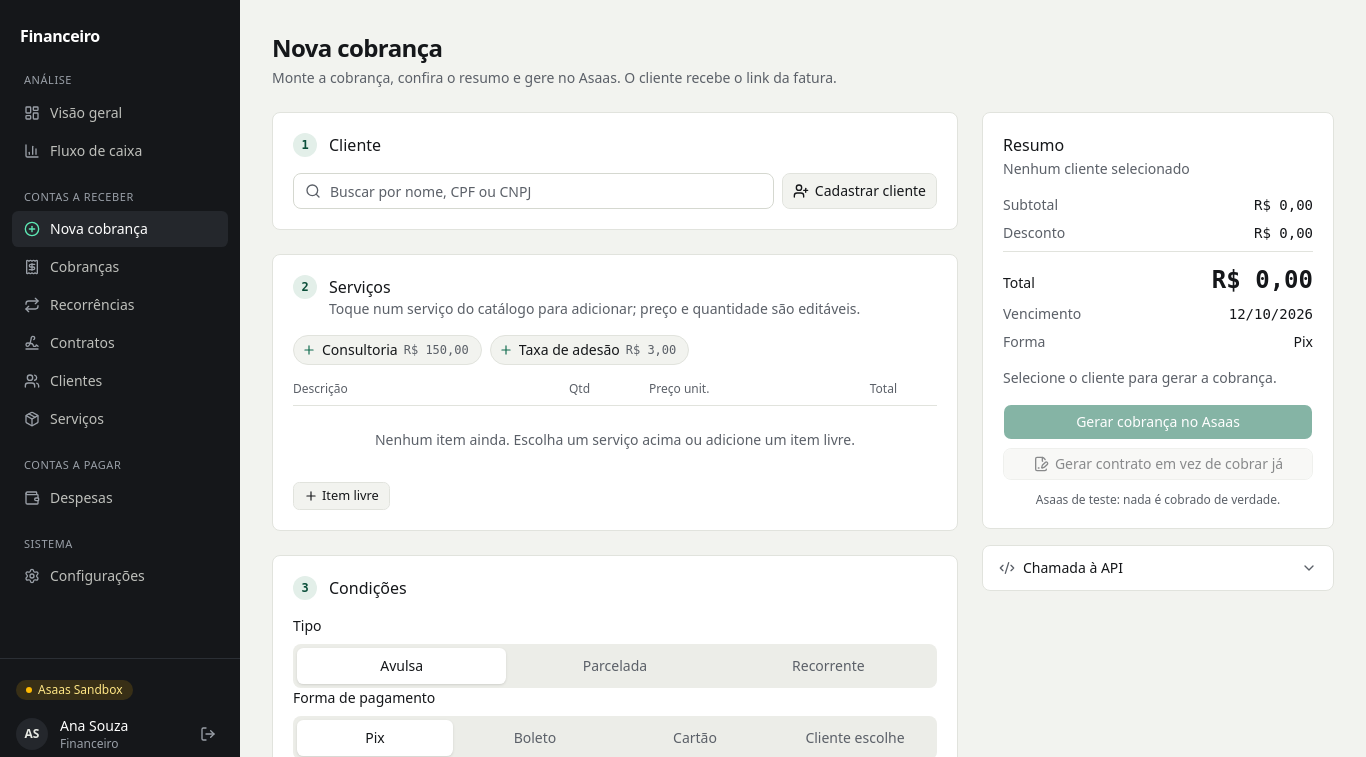
it: [COB-01][COB-02][COB-12] Nova cobrança › [COB-01.2] serviço do catálogo entra com o preço padrão, editável; repetir soma na quantidade
Click the button "Consultoria R$ 150,00". click: (387, 350)
box: [293,335,482,365]
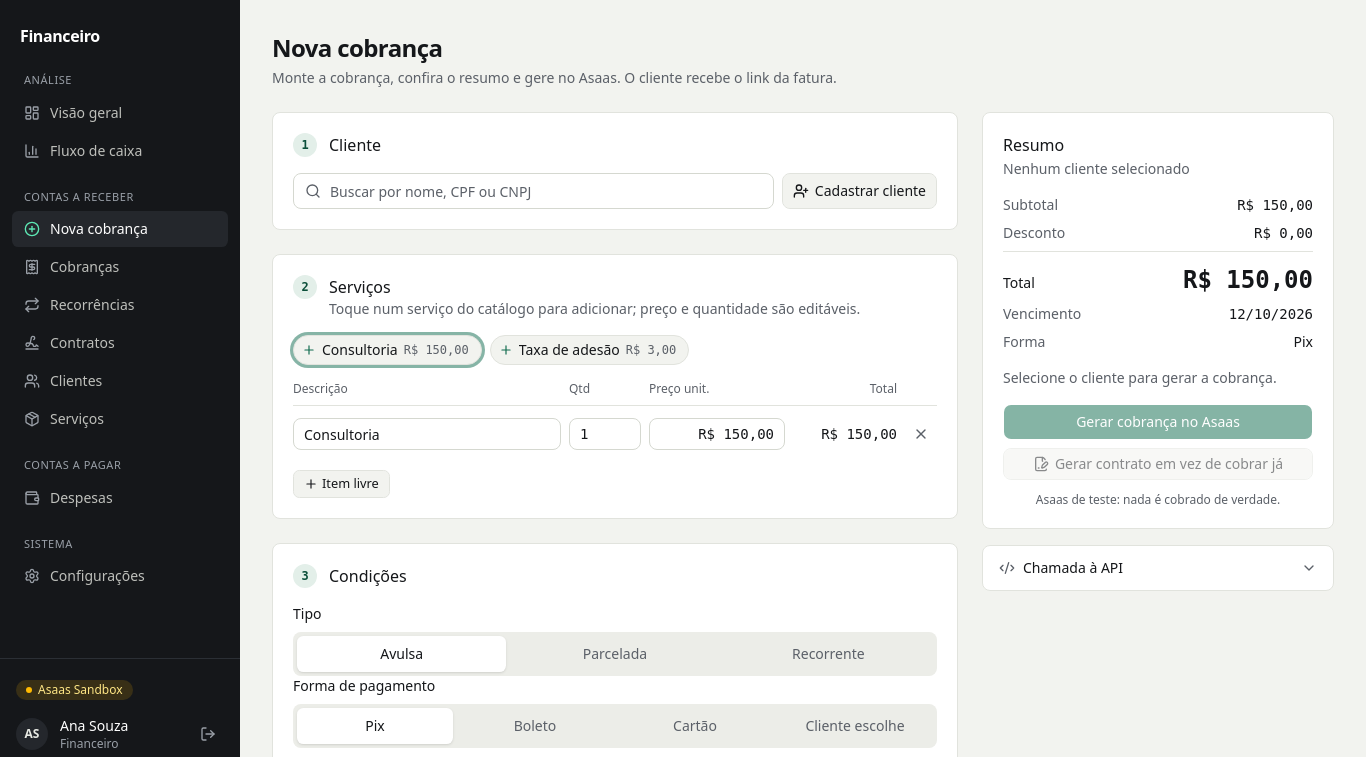
Click the button "Consultoria R$ 150,00". click: (387, 350)
box: [293,335,482,365]
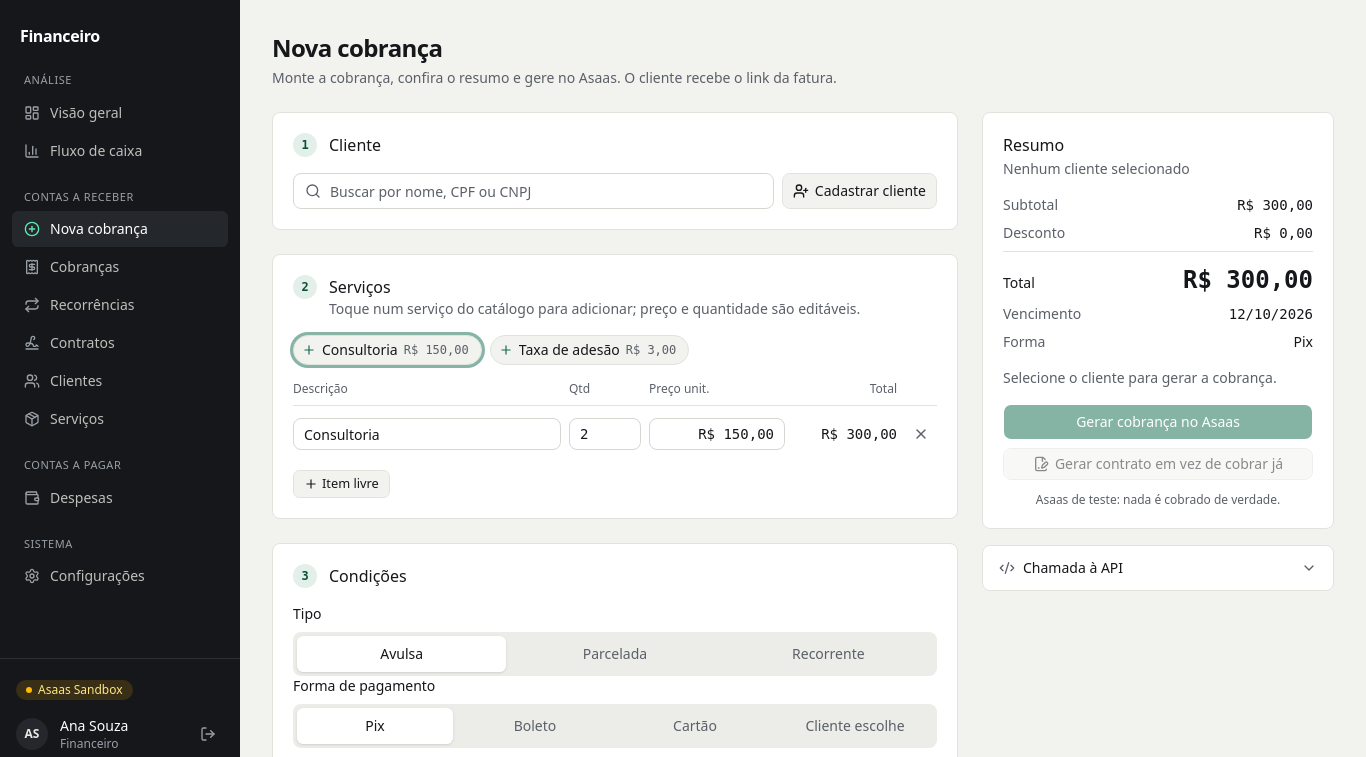
Result: the 2nd field named "Preço unitário do item 1" holds "R$ 150,00"
Result: the number field named "Quantidade do item 1" holds "2" at [569,418,641,450]
Result: the 2nd text "R$ 300,00" is shown at [1183,264,1313,296]
Replace the text in the 2nd field named "Preço unitário do item 1" with "20000". click: (717, 434)
box: [649,418,785,450]
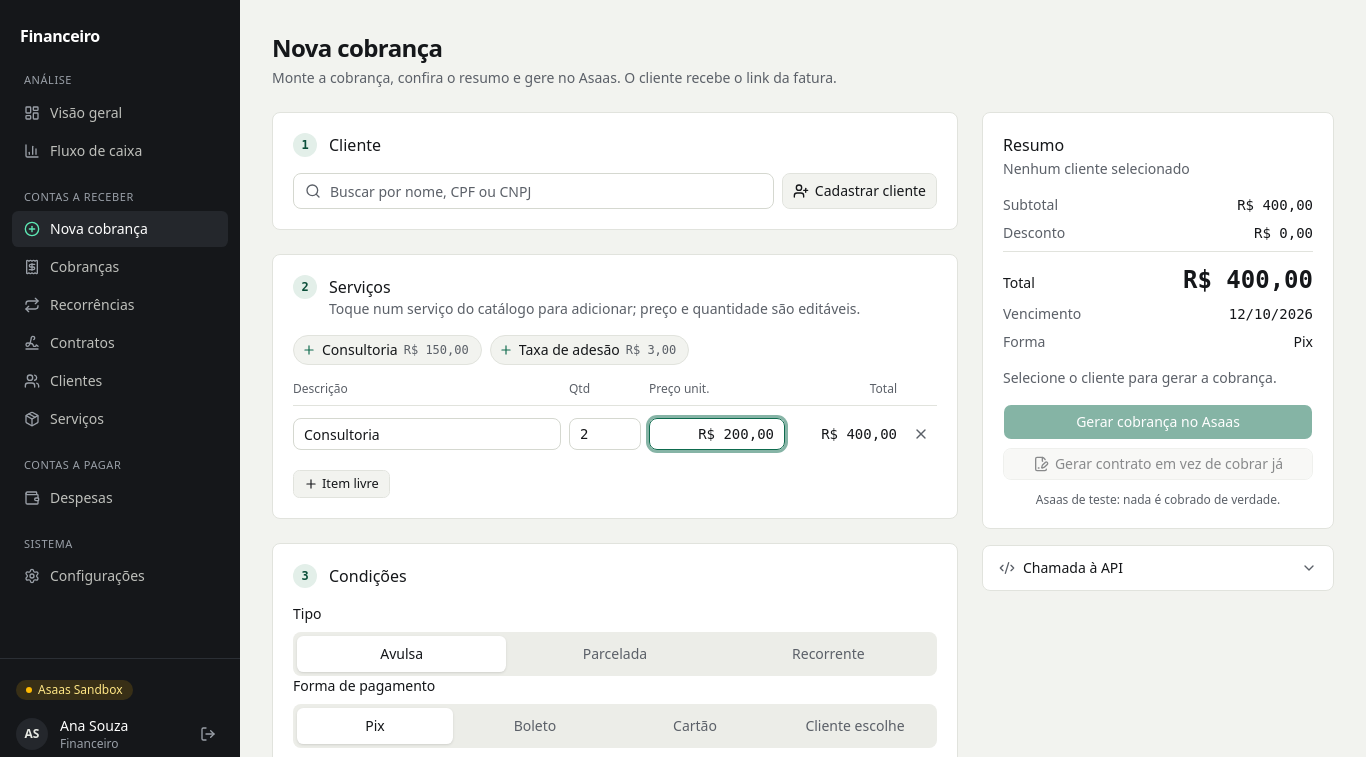
Result: the 2nd text "R$ 400,00" is shown at [1183,264,1313,296]
